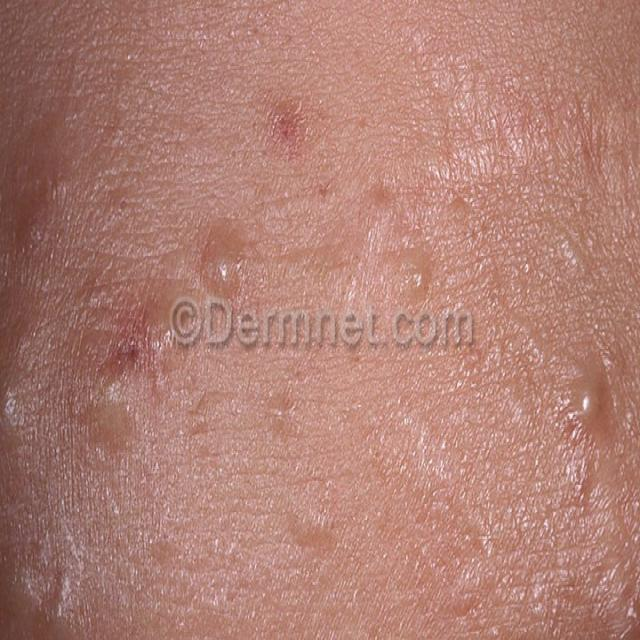Acne: (0, 552, 76, 640), (563, 352, 619, 437), (85, 363, 147, 435), (108, 302, 158, 384), (200, 220, 244, 300), (264, 94, 312, 160), (392, 236, 437, 302), (0, 364, 36, 438)
